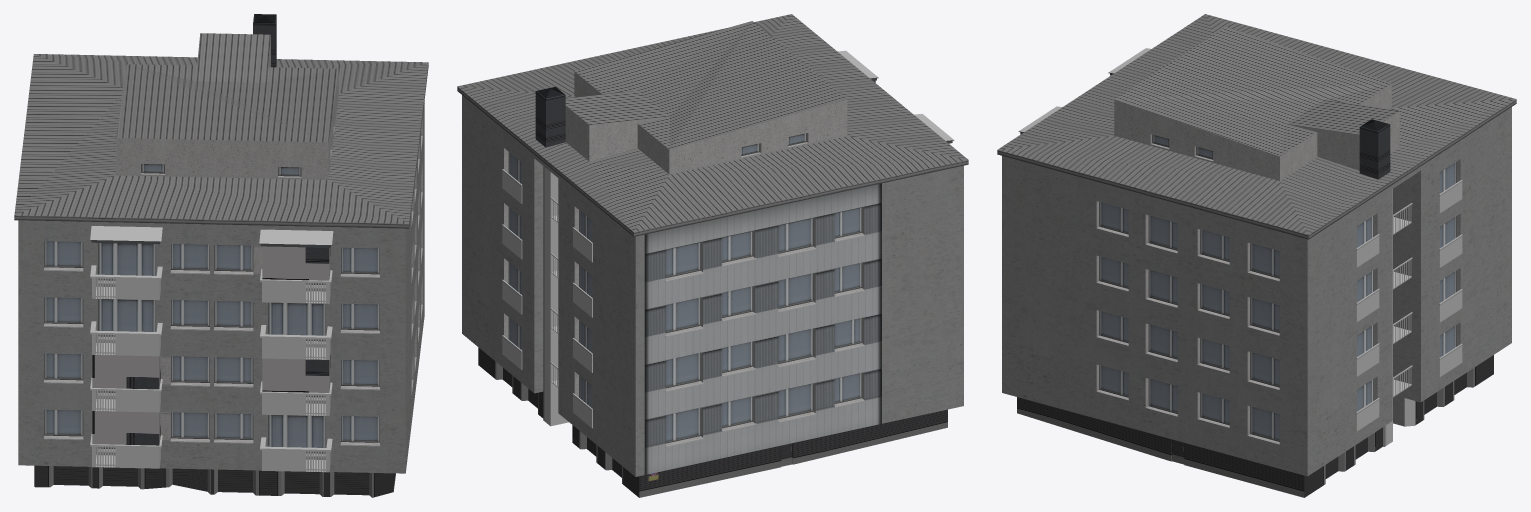
Rendered from Building1_2.glb.
The picture shows the model from 3 angles, left to right: view 1: azimuth 30°, elevation 25°; view 2: azimuth 150°, elevation 25°; view 3: azimuth 270°, elevation 25°; orthographic projection. The views are drawn at different scales.
Parts seen in each view (by area): view 1: Block6_Building1_2; view 2: Block6_Building1_2; view 3: Block6_Building1_2.
Boxes of the visible parts, <box> form: Block6_Building1_2: <box>14,14,428,497</box>; Block6_Building1_2: <box>457,14,968,497</box>; Block6_Building1_2: <box>997,14,1516,497</box>.
Bounding box in the file's own units: 26.14 × 17.89 × 25.97.
2 materials, 2 textured.
